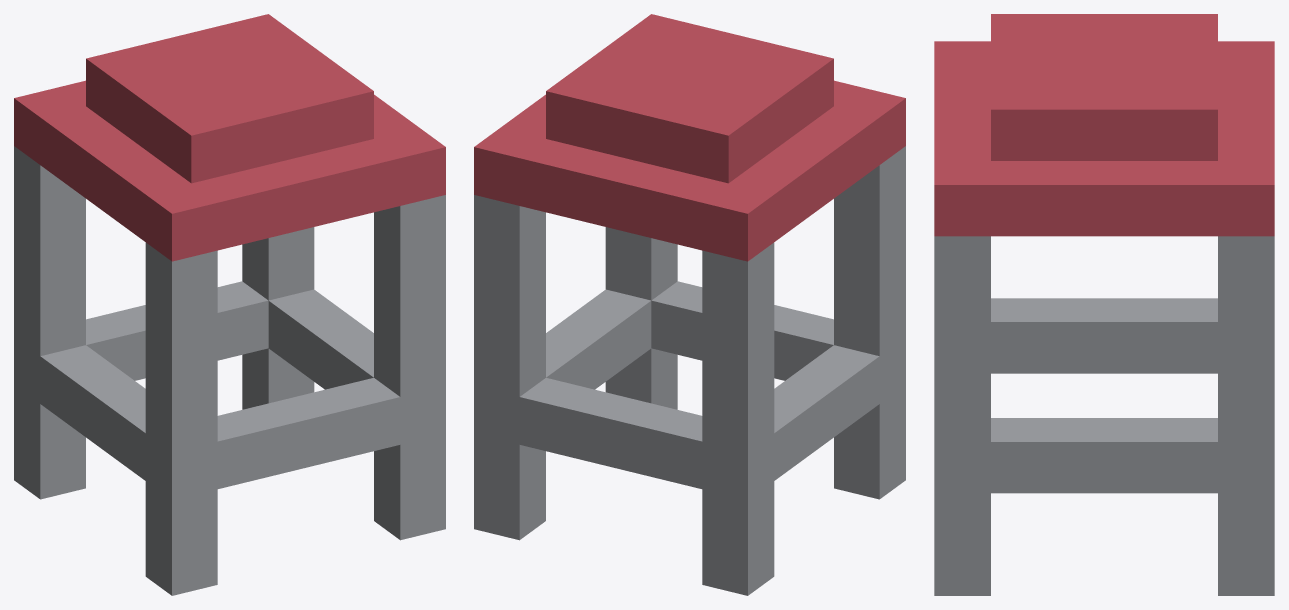
File: tabouret.glb
The picture shows the model from 3 angles, left to right: view 1: azimuth 30°, elevation 25°; view 2: azimuth 150°, elevation 25°; view 3: azimuth 270°, elevation 25°; orthographic projection. The views are drawn at different scales.
Parts seen in each view (by area): view 1: main; view 2: main; view 3: main.
Part boxes in pixels (x1,y1,x2,y2): main: (14, 14, 445, 595); main: (474, 14, 905, 595); main: (934, 14, 1274, 595).
Size of the model in its own units: 0.375 by 0.5625 by 0.375.
